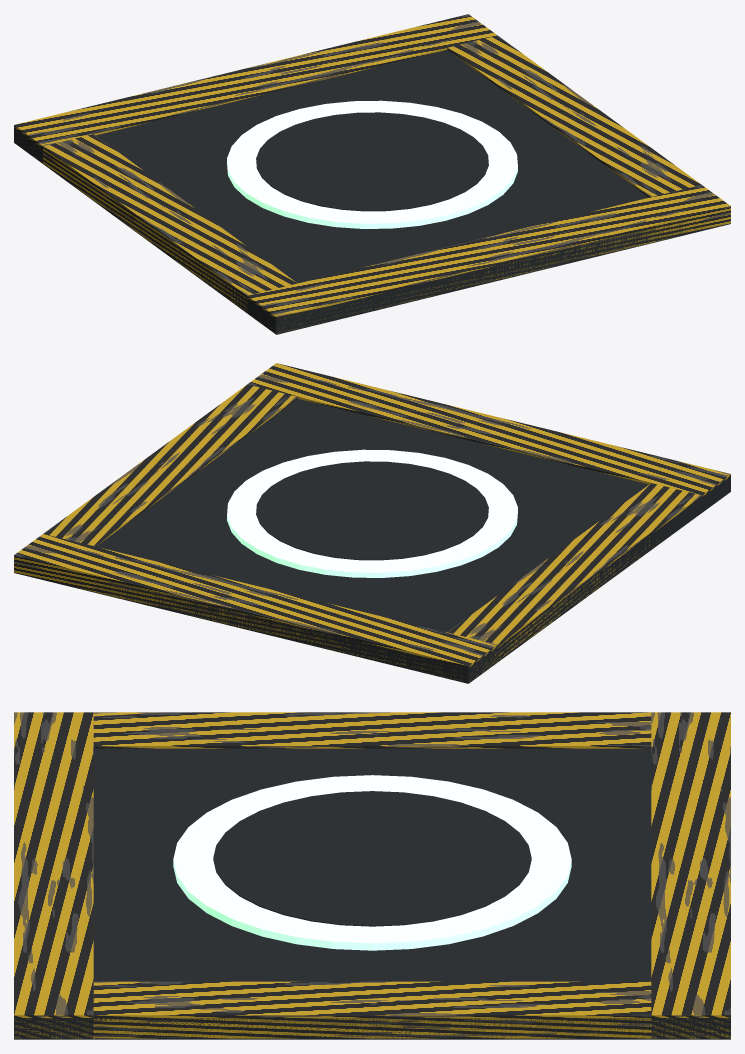
The model's file is exit_pad.glb.
3 views of the same model, one above another, from view 1: azimuth 30°, elevation 25°; view 2: azimuth 150°, elevation 25°; view 3: azimuth 270°, elevation 25° (orthographic). The views are drawn at different scales.
Parts seen in each view (by area): view 1: exit_pad; view 2: exit_pad; view 3: exit_pad.
Boxes of the visible parts, box(x1,y1,x2,y2) form: exit_pad: box(14, 14, 730, 334); exit_pad: box(14, 363, 730, 683); exit_pad: box(14, 712, 730, 1039).
Size of the model in its own units: 1.8 by 0.0825 by 1.8.
3 materials, 1 textured.
